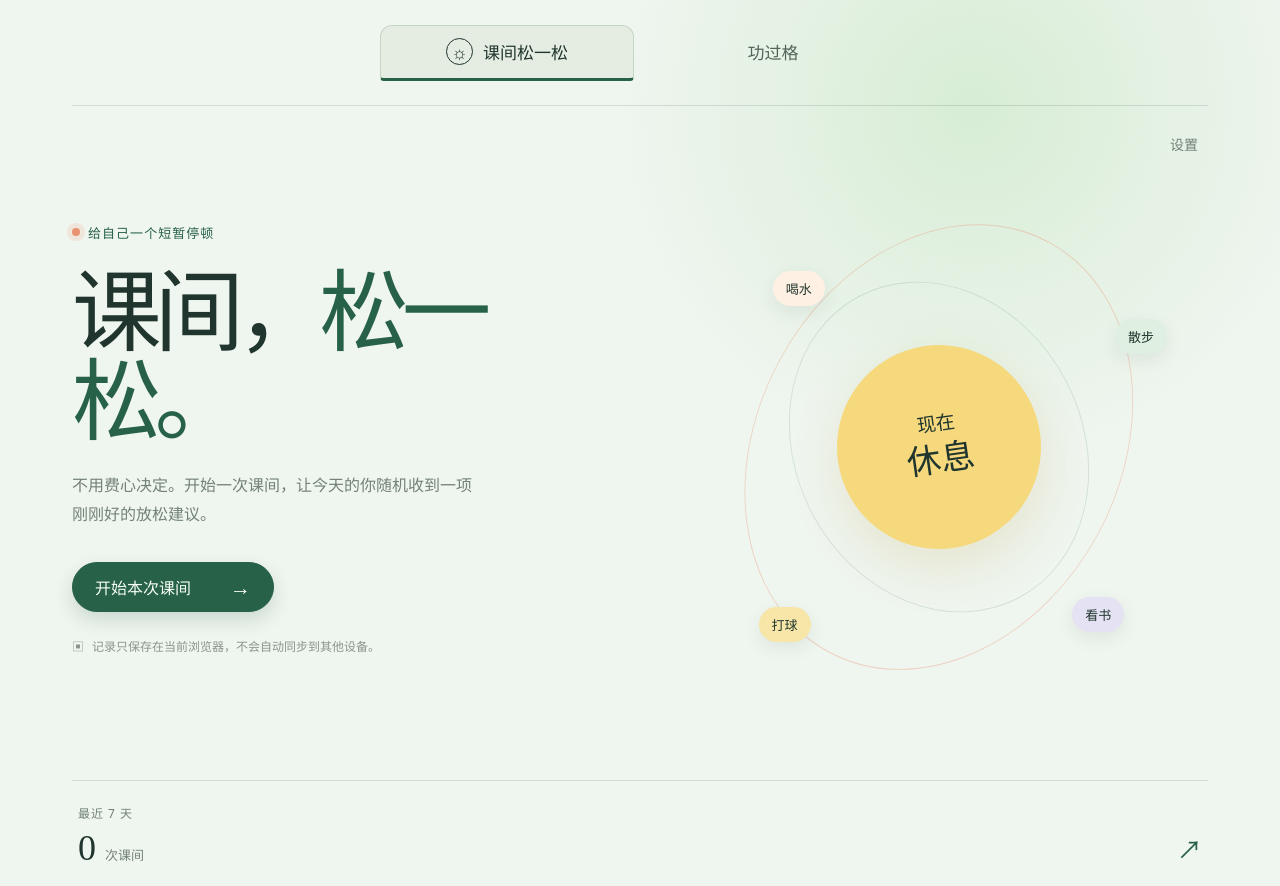
Test: 双模块导航 › keeps the parent module selected on a secondary page and exposes its module-local return action
The width and height of the screenshot is (1280, 886).
Click the button "功过格" at (773, 52), box [646, 24, 900, 80]
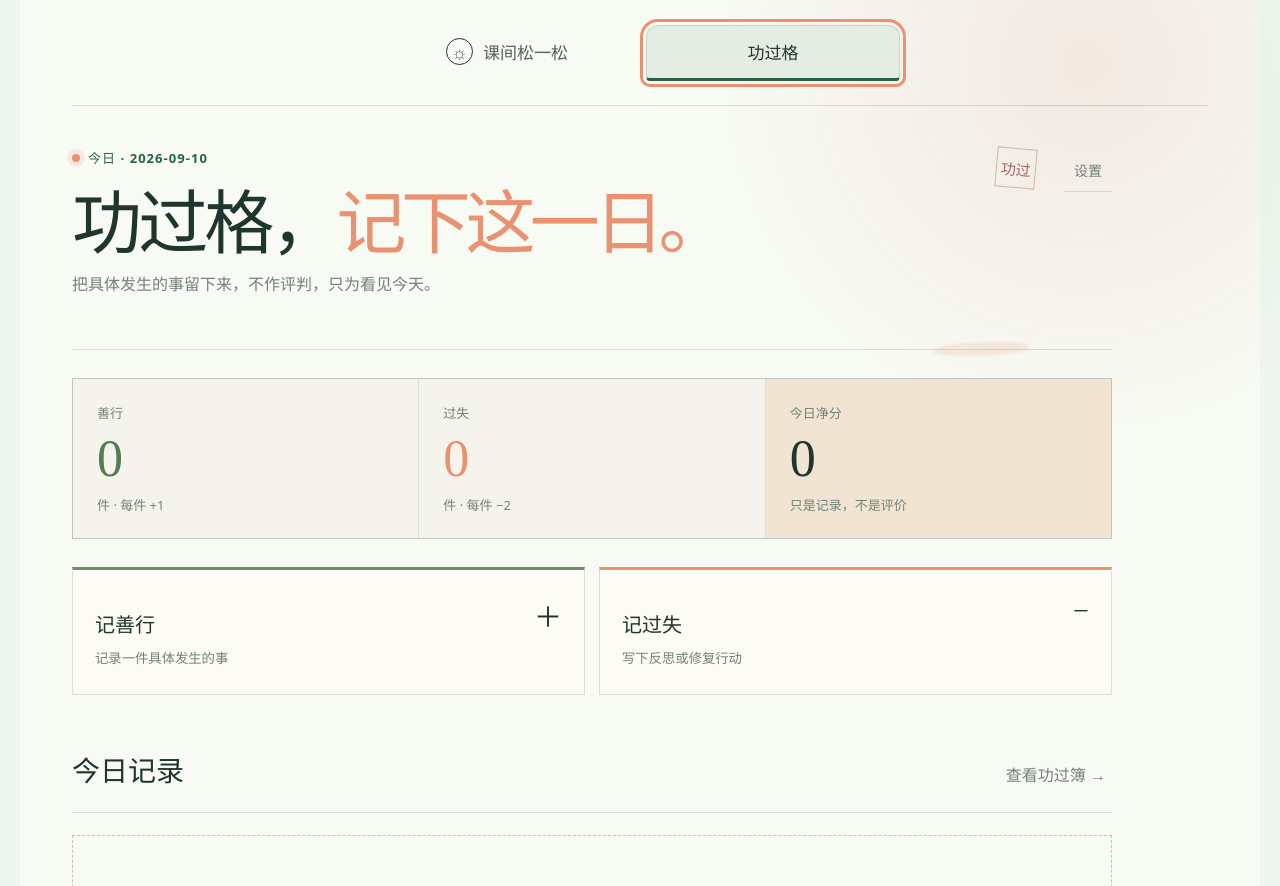
Click the button "查看功过簿 →" at (1056, 774), box [1000, 761, 1112, 787]
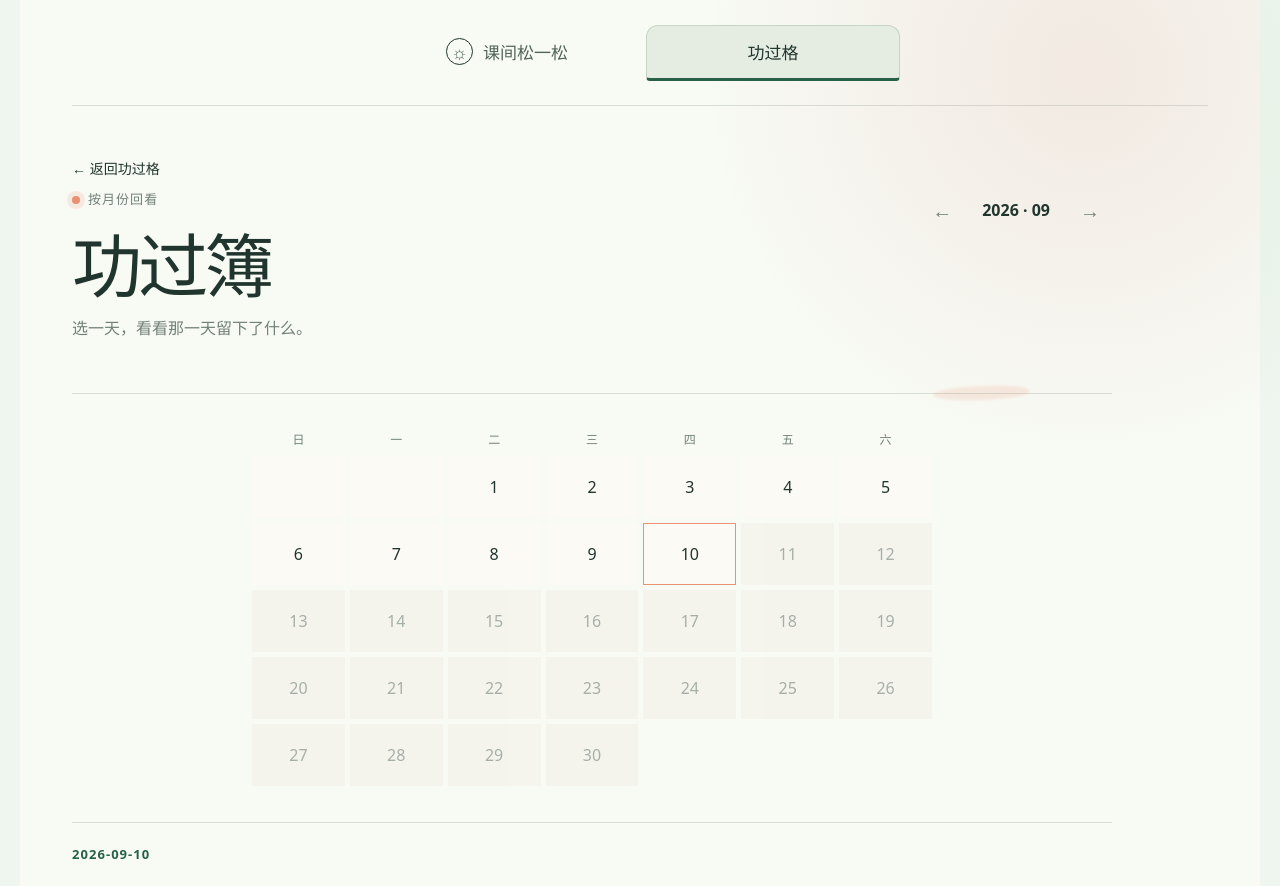
Check: the heading "功过簿" is shown, box [72, 230, 270, 307]
Check: the button "← 返回功过格" is shown
Check: the button "设置" is gone
Click the button "← 返回功过格" at (116, 168), box [72, 148, 160, 188]
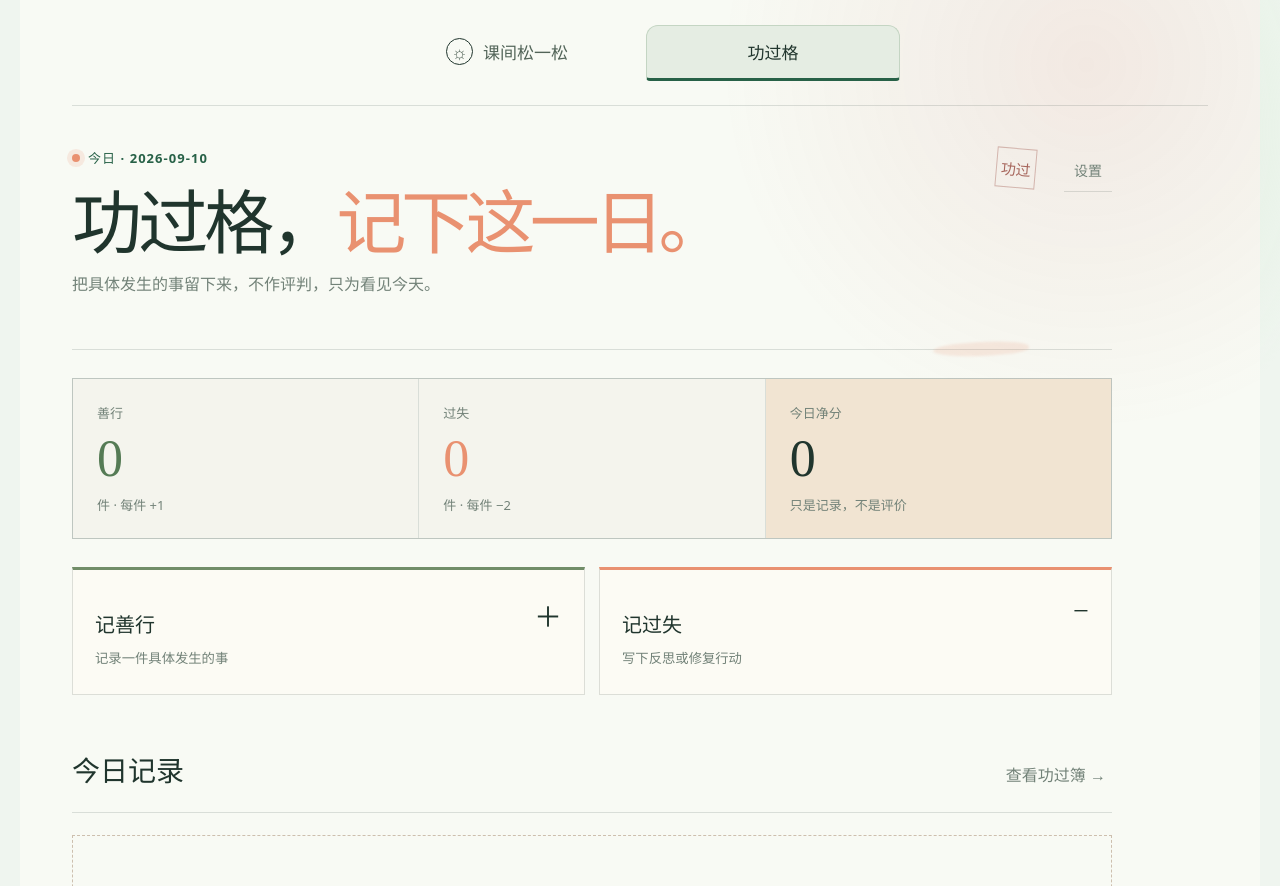
Check: the heading "功过格，记下这一日。" is shown, box [72, 192, 723, 258]
